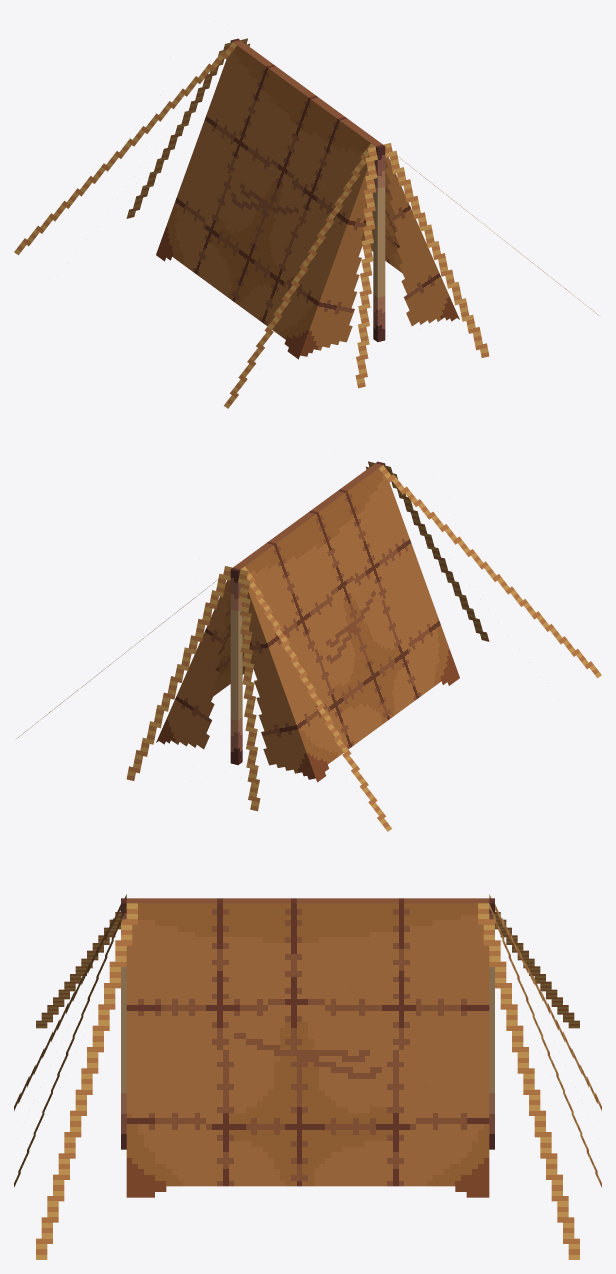
File: roped-tent.gltf
3 views of the same model, one above another, from view 1: azimuth 30°, elevation 25°; view 2: azimuth 150°, elevation 25°; view 3: azimuth 270°, elevation 25° (orthographic). The views are drawn at different scales.
Parts seen in each view (by area): view 1: cube (×11); view 2: cube (×11); view 3: cube (×12).
Boxes of the visible parts, x1,y1,x2,y2 form: cube (×11): [14, 40, 489, 408]; cube (×11): [126, 463, 601, 831]; cube (×12): [14, 894, 601, 1259].
Bounding box in the file's own units: 3.02 × 1.72 × 3.24.
Materials: 1 (1 with a texture image).
